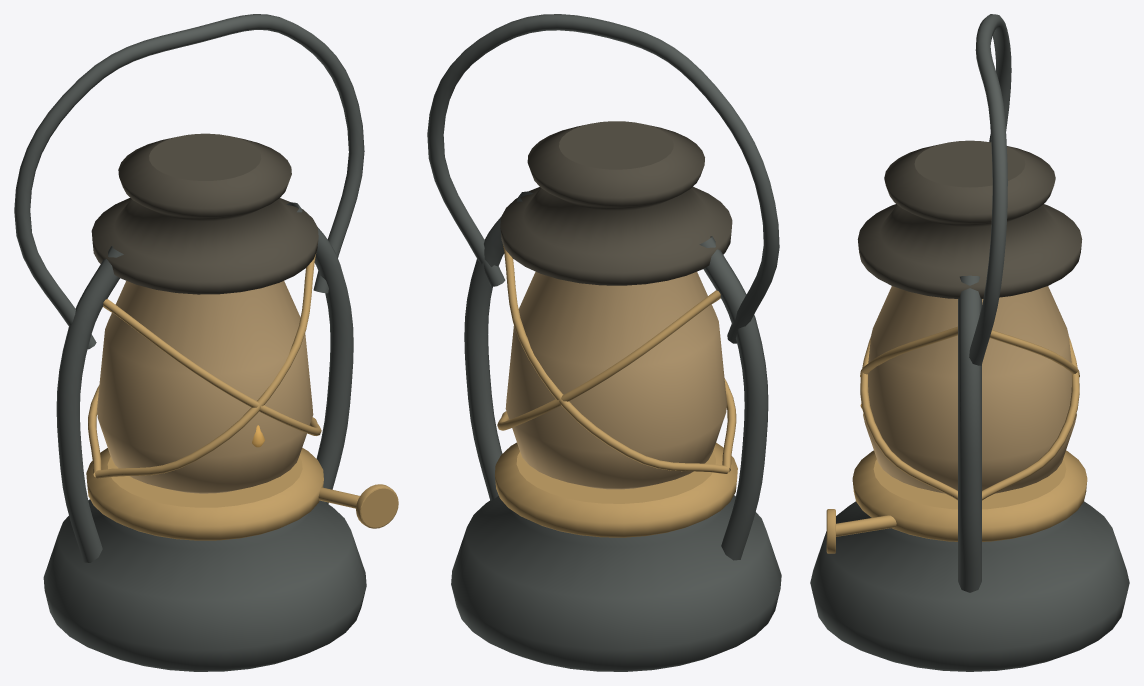
Rendered from StormLantern.fbx.
3 renders of one model, left to right at view 1: azimuth 30°, elevation 25°; view 2: azimuth 150°, elevation 25°; view 3: azimuth 270°, elevation 25°, orthographic. The views are drawn at different scales.
Visible parts, largest first — view 1: HQ_Steel, HQ_Glass, HQ_Oxide, HQ_Brass; view 2: HQ_Steel, HQ_Glass, HQ_Oxide, HQ_Brass; view 3: HQ_Steel, HQ_Glass, HQ_Oxide, HQ_Brass.
Boxes of the visible parts, <box> form: HQ_Steel: <box>14,14,366,671</box>; HQ_Glass: <box>97,281,313,493</box>; HQ_Oxide: <box>91,133,318,294</box>; HQ_Brass: <box>86,253,398,540</box>; HQ_Steel: <box>427,14,781,671</box>; HQ_Glass: <box>505,271,726,489</box>; HQ_Oxide: <box>500,121,732,285</box>; HQ_Brass: <box>495,243,737,537</box>; HQ_Steel: <box>810,14,1129,671</box>; HQ_Glass: <box>863,286,1076,493</box>; HQ_Oxide: <box>857,140,1082,298</box>; HQ_Brass: <box>826,326,1087,553</box>.
Bounding box in the file's own units: 0.2966 × 0.4786 × 0.242.
